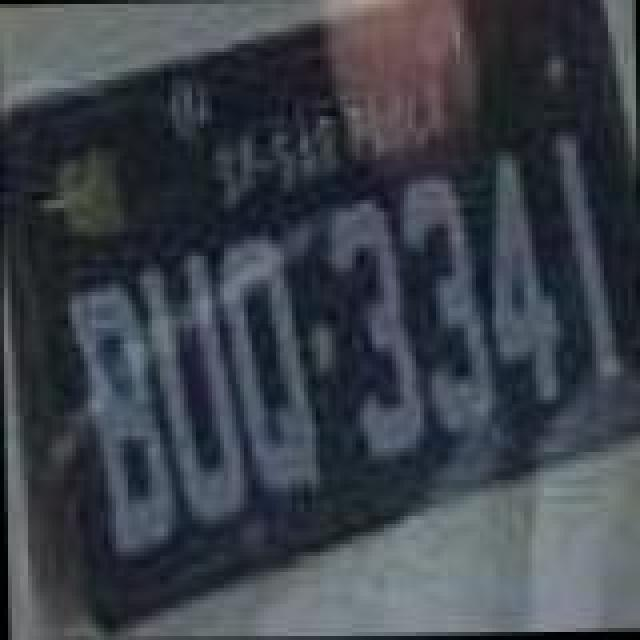1: (556, 132, 628, 380)
3: (328, 202, 428, 466), (396, 180, 496, 436)
4: (490, 152, 570, 408)
B: (68, 278, 180, 562)
Q: (212, 234, 320, 498)
U: (136, 246, 248, 530)
